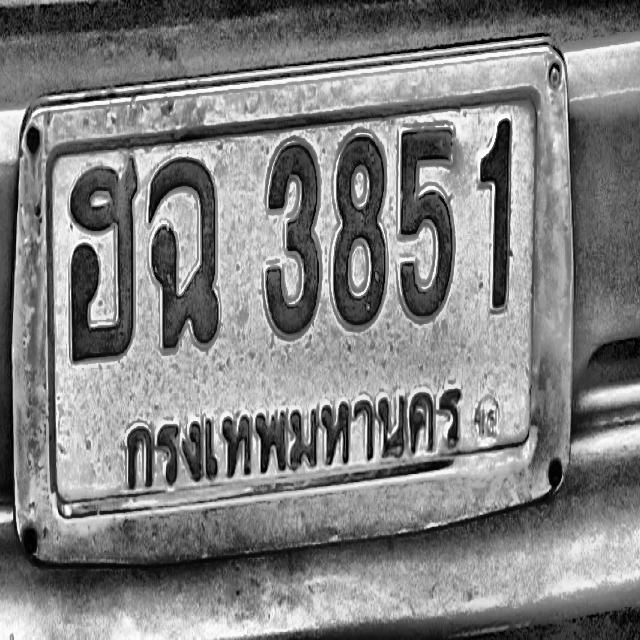license-plate: (8, 28, 578, 579)
